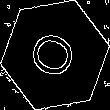O_E: (25, 26, 85, 84)
